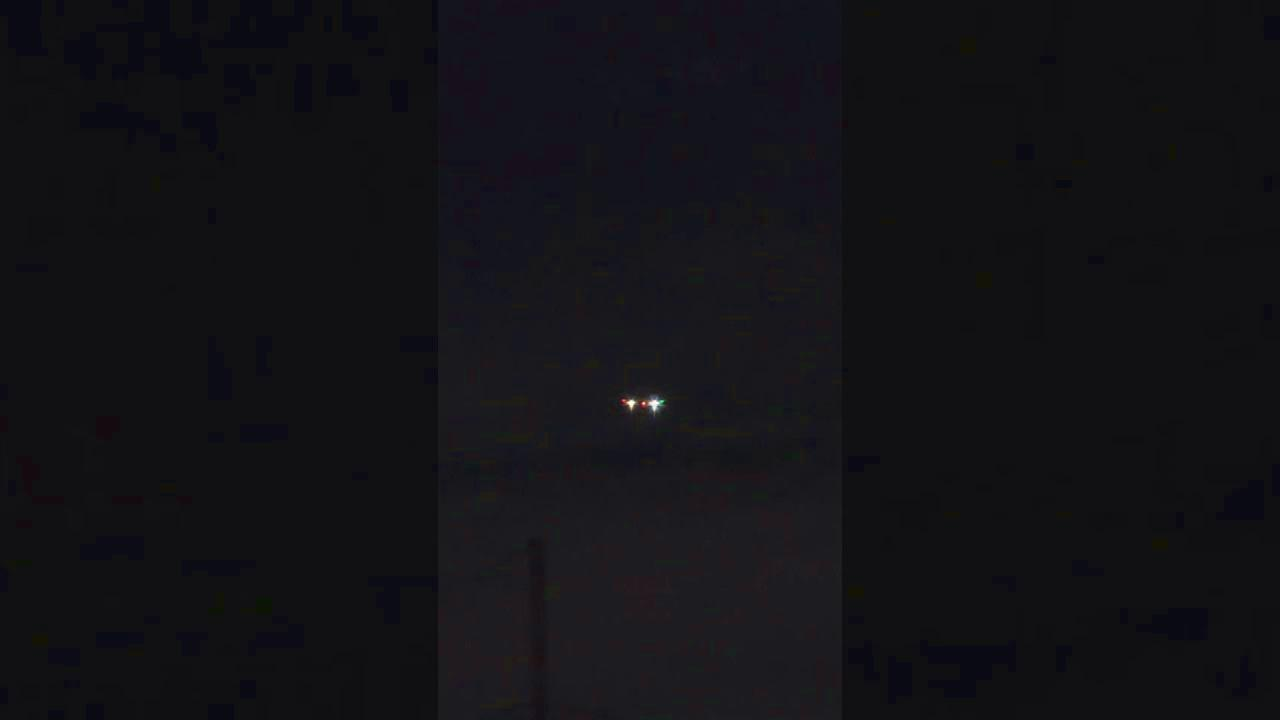Plane: (586, 377, 707, 432)
